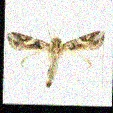Spodoptera litura: (6, 20, 105, 88)
